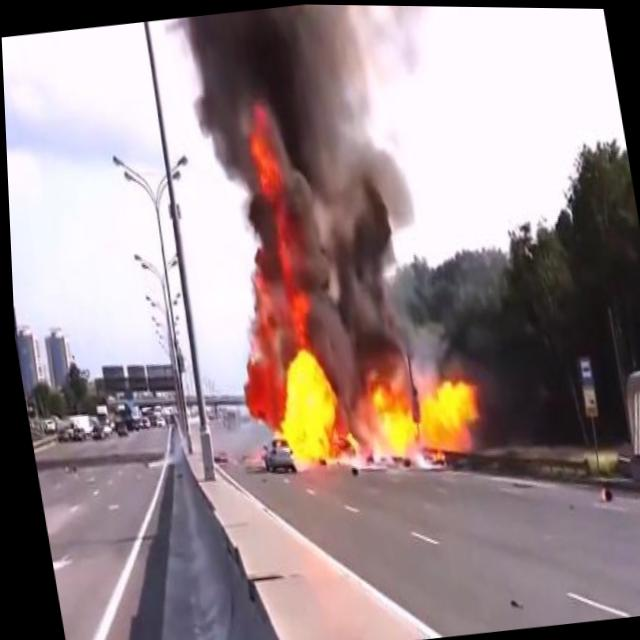fire: (236, 89, 321, 338), (355, 338, 489, 475), (257, 330, 352, 480)
